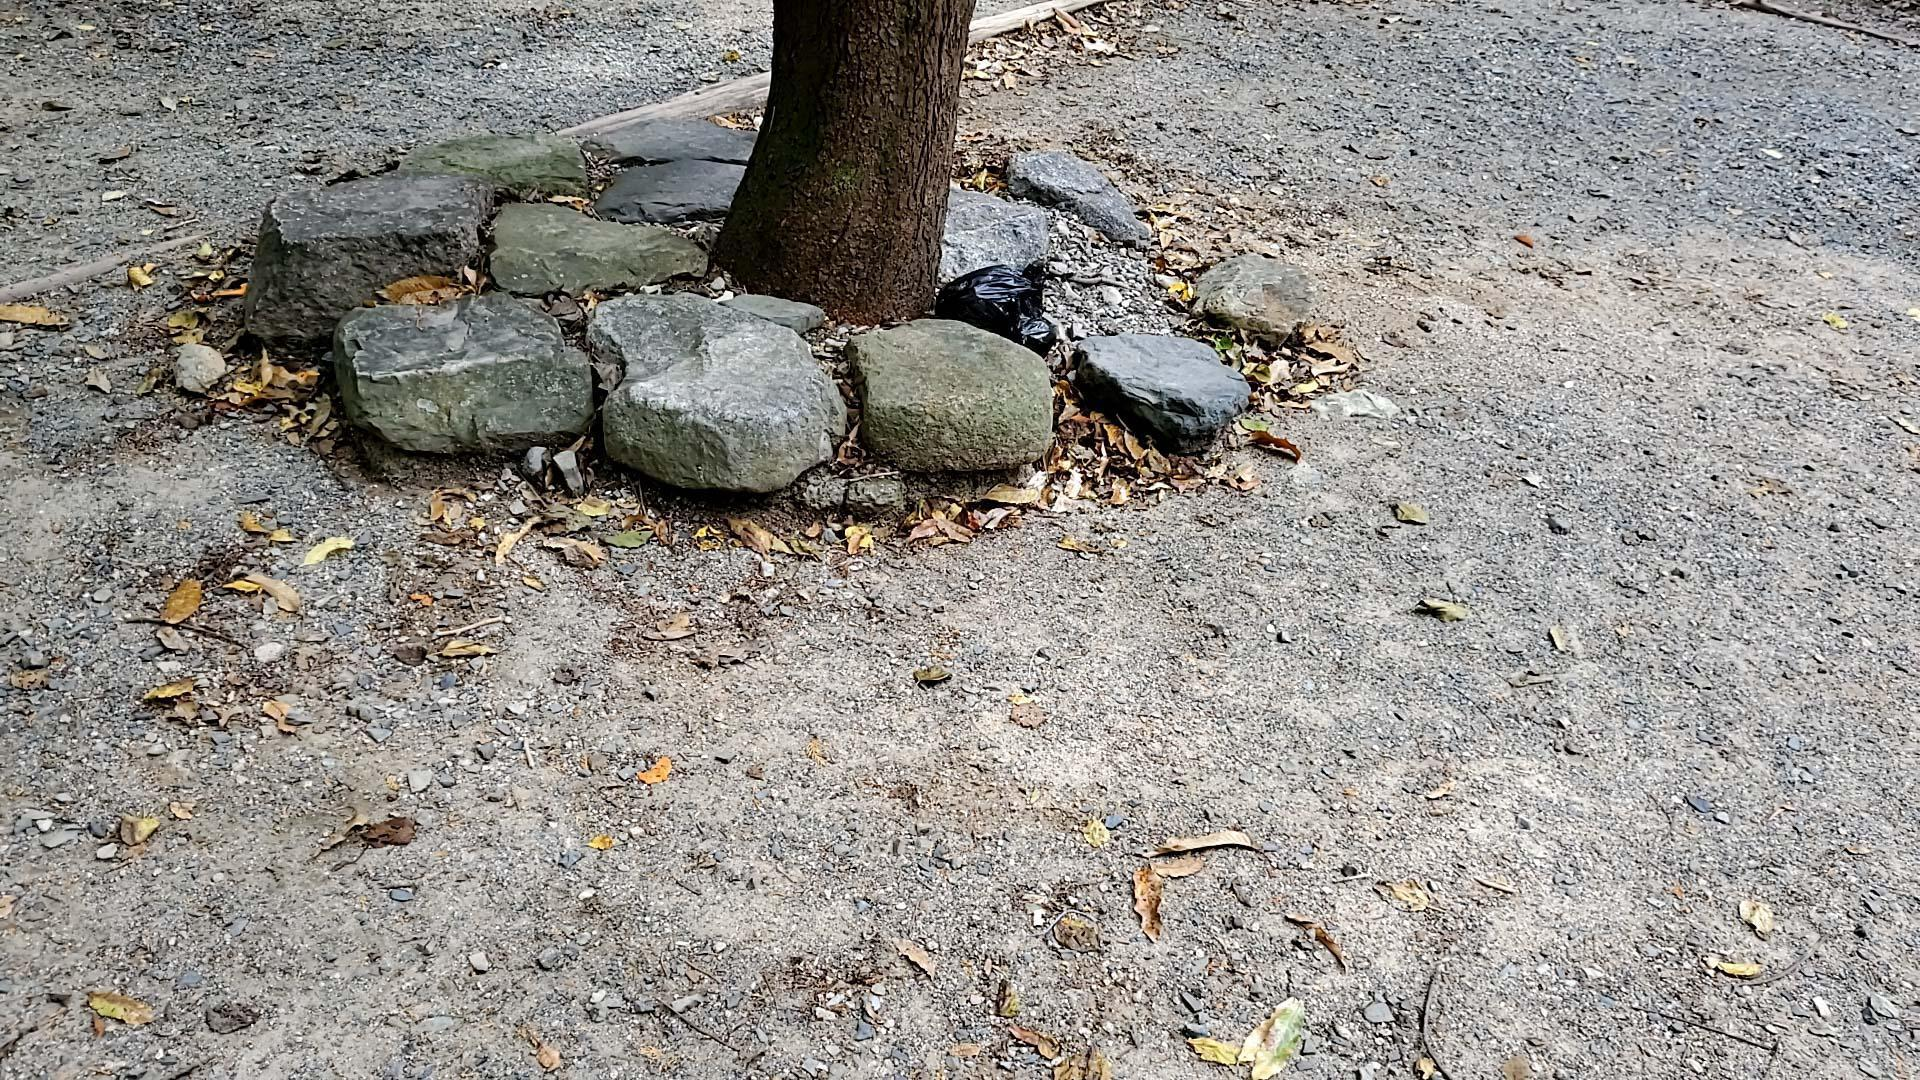white_bag: (930, 256, 1065, 363)
